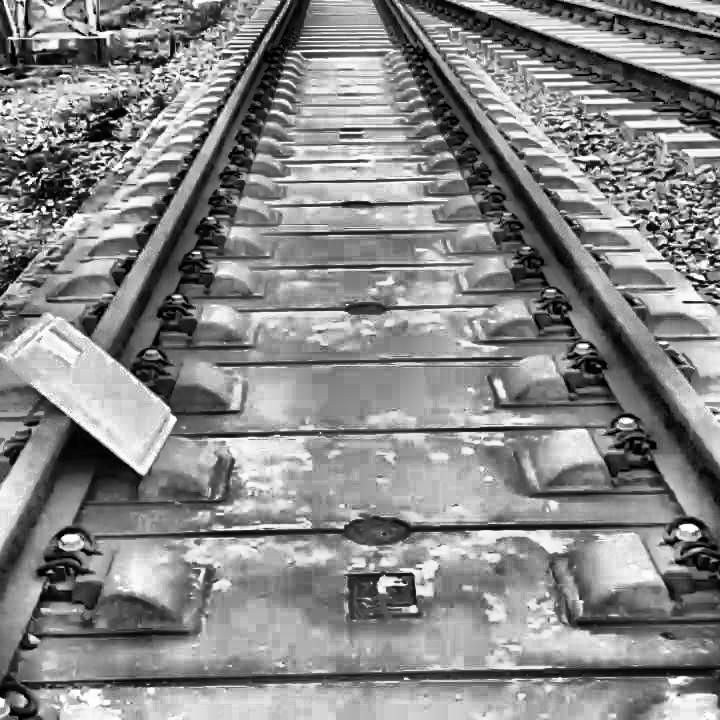Trash: (0, 312, 173, 480)
